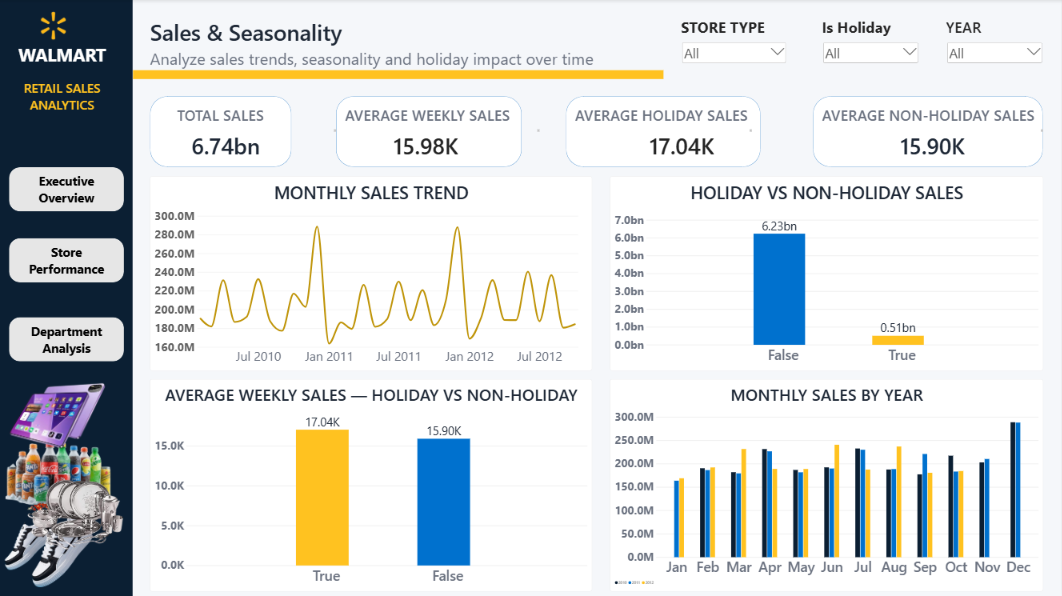

What the dashboard file says about the page in this screenshot:
{"tool":"powerbi","page":{"name":"Sales & Seasonality","canvas":[3840,2160],"ordinal":3},"visuals":[{"type":"shape","box":[0,-16,480,2176],"z":0},{"type":"actionButton","box":[32,1152,416,160],"z":1000},{"type":"image","box":[0,1588.9,430.7,260.6],"z":4000},{"type":"image","box":[32,1248,352,480],"z":5000},{"type":"image","box":[0,1824,354.7,304],"z":6000},{"type":"image","box":[96,1728,351.1,289.5],"z":7000},{"type":"actionButton","box":[32,608,416,160],"z":8000},{"type":"actionButton","box":[32,864,416,160],"z":9000},{"type":"image","box":[64,0,256,192],"z":10000},{"type":"textbox","title":"WALMART","box":[64,160,320,96],"z":11000},{"type":"textbox","title":"RETAIL SALES ANALYTICS","box":[32,288,384,128],"z":12000},{"type":"textbox","title":"Sales & Seasonality","box":[544,64,1792,224],"z":13000},{"type":"shape","box":[480,256,1920,32],"z":14000},{"type":"shape","box":[544,352,512,256],"z":15000},{"type":"shape","box":[1216,352,672,256],"z":16000},{"type":"shape","box":[2048,352,704,256],"z":17000},{"type":"shape","box":[2944,352,832,256],"z":18000},{"type":"textbox","title":"TOTAL SALES","box":[640,384,576,96],"z":19000},{"type":"textbox","title":"AVERAGE WEEKLY SALES","box":[1248,384,704,96],"z":20000},{"type":"textbox","title":"AVERAGE HOLIDAY SALES","box":[2080,384,640,96],"z":21000},{"type":"textbox","title":"AVERAGE NON-HOLIDAY SALES","box":[2976,384,800,96],"z":22000},{"type":"cardVisual","fields":{"Data":["Walmart_Sales.Total Sales"]},"box":[640,480,352,96],"z":23000},{"type":"cardVisual","fields":{"Data":["Walmart_Sales.Average Weekly Sales"]},"box":[1408,480,416,96],"z":24000},{"type":"cardVisual","fields":{"Data":["Walmart_Sales.Average Holiday Sales"]},"box":[2336,480,320,96],"z":25000},{"type":"cardVisual","fields":{"Data":["Walmart_Sales.Average Non-Holiday Sales"]},"box":[3168,448,416,160],"z":26000},{"type":"slicer","title":"STORE TYPE","fields":{"Values":["Walmart_Sales.type"]},"box":[2464,64,384,192],"z":27000},{"type":"slicer","title":"Is Holiday","fields":{"Values":["Walmart_Sales.isholiday"]},"box":[2976,64,352,192],"z":28000},{"type":"slicer","title":"YEAR","fields":{"Values":["DateTable.Year"]},"box":[3424,64,352,192],"z":29000},{"type":"lineChart","title":"MONTHLY SALES TREND","fields":{"Category":["DateTable.Year Month Date.Variation.Date Hierarchy.Year","DateTable.Year Month Date.Variation.Date Hierarchy.Month"],"Y":["Walmart_Sales.Total Sales"]},"box":[544,640,1600,704],"z":30000},{"type":"clusteredColumnChart","title":"HOLIDAY VS NON-HOLIDAY SALES","fields":{"Category":["Walmart_Sales.isholiday"],"Y":["Walmart_Sales.Total Sales"]},"box":[2208,640,1568,704],"z":31000},{"type":"clusteredColumnChart","title":"AVERAGE WEEKLY SALES — HOLIDAY VS NON-HOLIDAY","fields":{"Category":["Walmart_Sales.isholiday"],"Y":["Walmart_Sales.Average Weekly Sales"]},"box":[544,1376,1600,768],"z":32000},{"type":"clusteredColumnChart","title":"MONTHLY SALES BY YEAR","fields":{"Category":["DateTable.Month Short"],"Y":["Walmart_Sales.Total Sales"],"Series":["DateTable.Year"]},"box":[2208,1376,1568,768],"z":33000}]}

Visuals, with their boxes in screenshot pixels (x1, y1, x2, y2), scaled from the page's 3840x2160 canvas onto the 1062x596 screenshot:
shape: [x1=0, y1=0, x2=133, y2=595]
actionButton: [x1=9, y1=318, x2=124, y2=362]
image: [x1=0, y1=438, x2=119, y2=510]
image: [x1=9, y1=344, x2=106, y2=477]
image: [x1=0, y1=503, x2=98, y2=587]
image: [x1=27, y1=477, x2=124, y2=557]
actionButton: [x1=9, y1=168, x2=124, y2=212]
actionButton: [x1=9, y1=238, x2=124, y2=283]
image: [x1=18, y1=0, x2=88, y2=53]
"WALMART" textbox: [x1=18, y1=44, x2=106, y2=71]
"RETAIL SALES ANALYTICS" textbox: [x1=9, y1=79, x2=115, y2=115]
"Sales & Seasonality" textbox: [x1=150, y1=18, x2=646, y2=79]
shape: [x1=133, y1=71, x2=664, y2=79]
shape: [x1=150, y1=97, x2=292, y2=168]
shape: [x1=336, y1=97, x2=522, y2=168]
shape: [x1=566, y1=97, x2=761, y2=168]
shape: [x1=814, y1=97, x2=1044, y2=168]
"TOTAL SALES" textbox: [x1=177, y1=106, x2=336, y2=132]
"AVERAGE WEEKLY SALES" textbox: [x1=345, y1=106, x2=540, y2=132]
"AVERAGE HOLIDAY SALES" textbox: [x1=575, y1=106, x2=752, y2=132]
"AVERAGE NON-HOLIDAY SALES" textbox: [x1=823, y1=106, x2=1044, y2=132]
cardVisual - Walmart_Sales.Total Sales: [x1=177, y1=132, x2=274, y2=159]
cardVisual - Walmart_Sales.Average Weekly Sales: [x1=389, y1=132, x2=504, y2=159]
cardVisual - Walmart_Sales.Average Holiday Sales: [x1=646, y1=132, x2=735, y2=159]
cardVisual - Walmart_Sales.Average Non-Holiday Sales: [x1=876, y1=124, x2=991, y2=168]
"STORE TYPE" slicer: [x1=681, y1=18, x2=788, y2=71]
"Is Holiday" slicer: [x1=823, y1=18, x2=920, y2=71]
"YEAR" slicer: [x1=947, y1=18, x2=1044, y2=71]
"MONTHLY SALES TREND" lineChart: [x1=150, y1=177, x2=593, y2=371]
"HOLIDAY VS NON-HOLIDAY SALES" clusteredColumnChart: [x1=611, y1=177, x2=1044, y2=371]
"AVERAGE WEEKLY SALES — HOLIDAY VS NON-HOLIDAY" clusteredColumnChart: [x1=150, y1=380, x2=593, y2=592]
"MONTHLY SALES BY YEAR" clusteredColumnChart: [x1=611, y1=380, x2=1044, y2=592]
